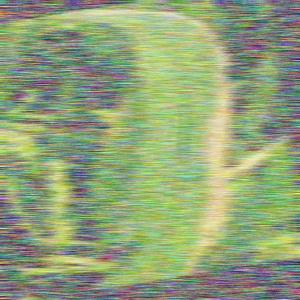Leaf_Blast: (133, 21, 232, 254)
